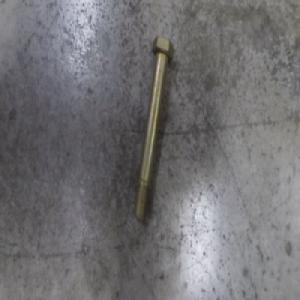Bolt: (132, 35, 175, 222)
